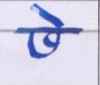e_matra: (33, 5, 67, 27)
